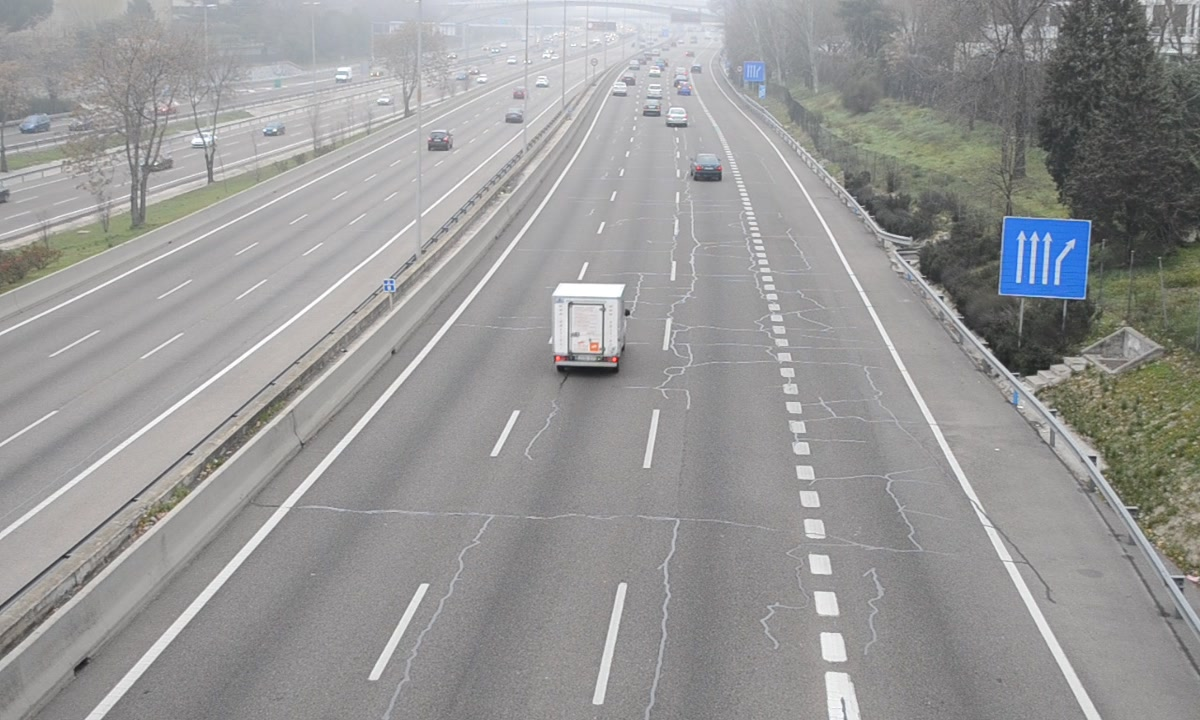car: (689, 151, 722, 181)
small-truck: (553, 284, 629, 368)
